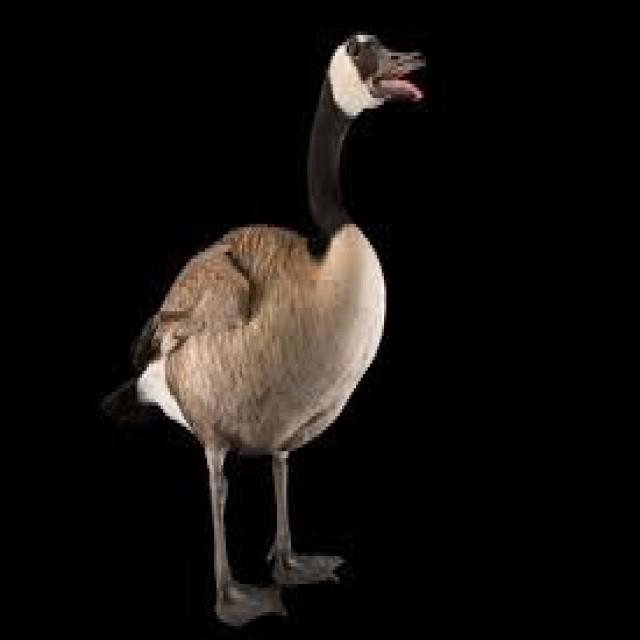Goose: (109, 22, 434, 615)
